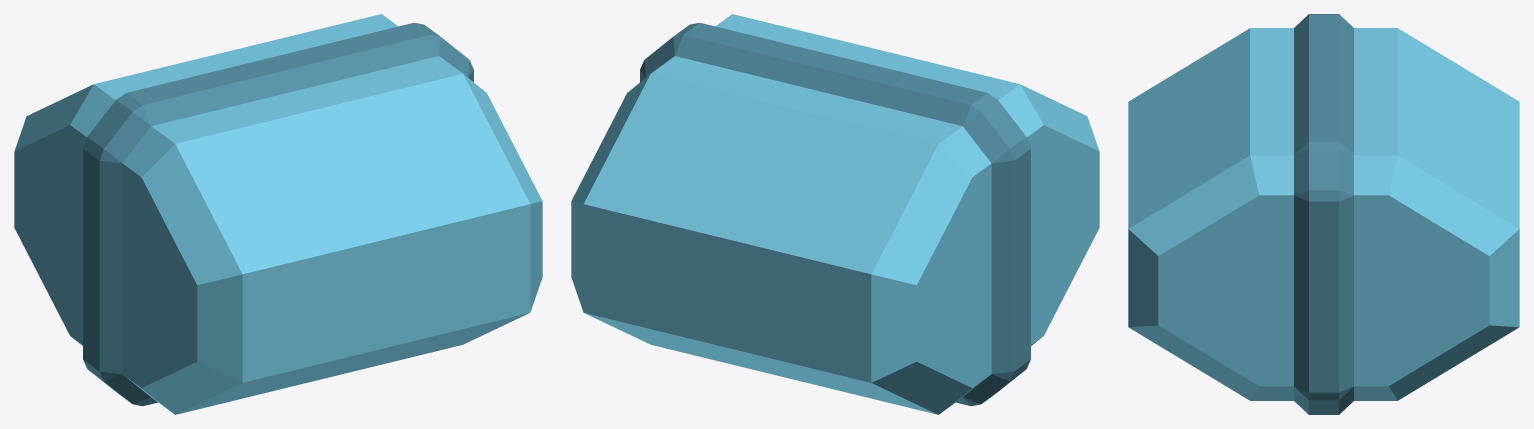
The model's file is spacestation_weapon_modular_gun_barrel_straight.glb.
The picture shows the model from 3 angles, left to right: view 1: azimuth 30°, elevation 25°; view 2: azimuth 150°, elevation 25°; view 3: azimuth 270°, elevation 25°; orthographic projection. The views are drawn at different scales.
Bounding box in the file's own units: 1.3 × 1 × 1.3.
